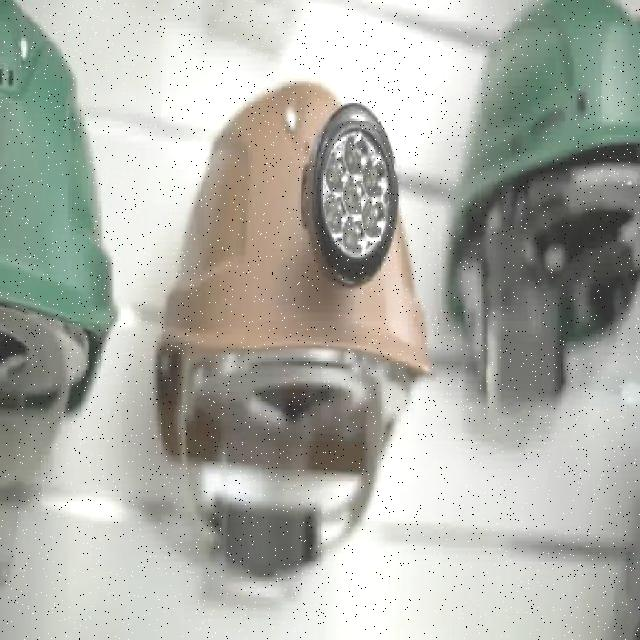Helmet: (156, 79, 436, 478), (440, 0, 640, 408), (444, 0, 638, 352), (0, 0, 118, 497)
